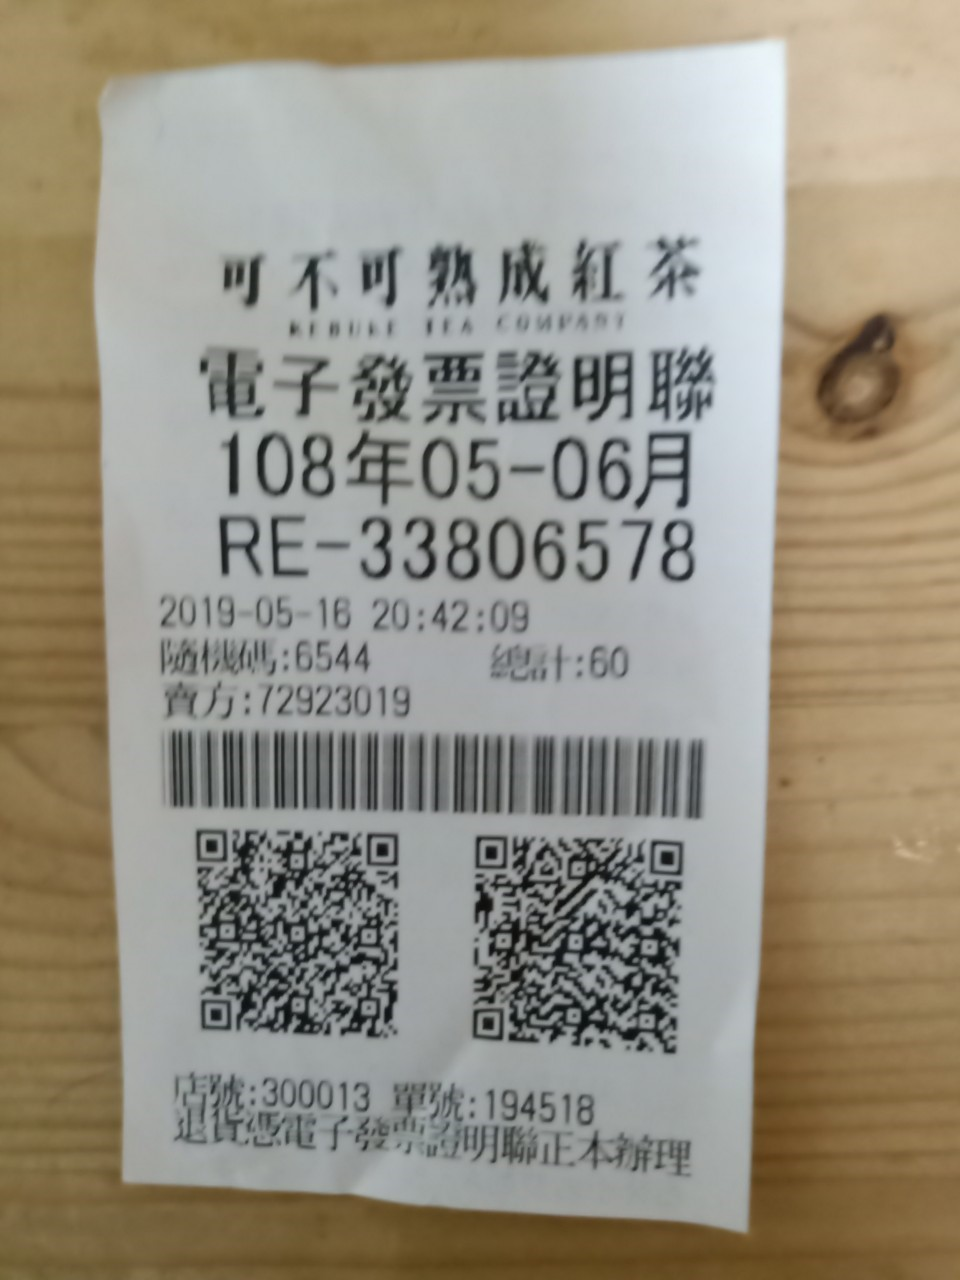Date_New: (215, 422, 693, 512)
Number_New: (356, 507, 698, 588)
